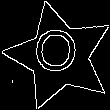O_S: (35, 29, 84, 83)
